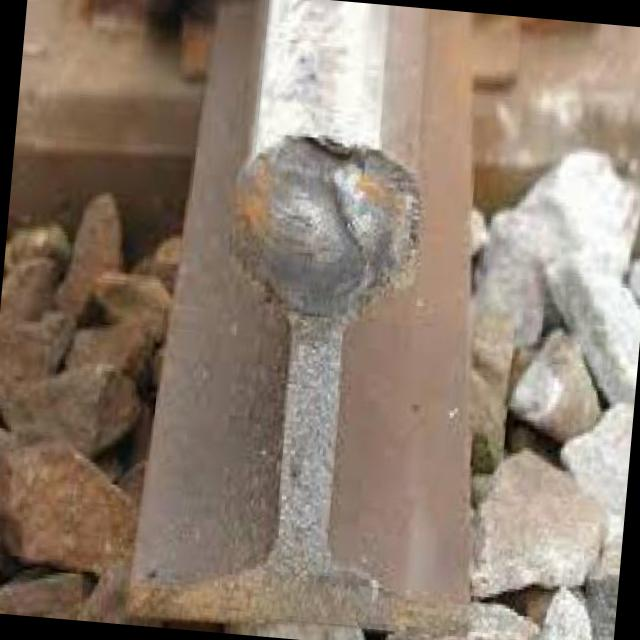defective: (137, 9, 564, 640)
